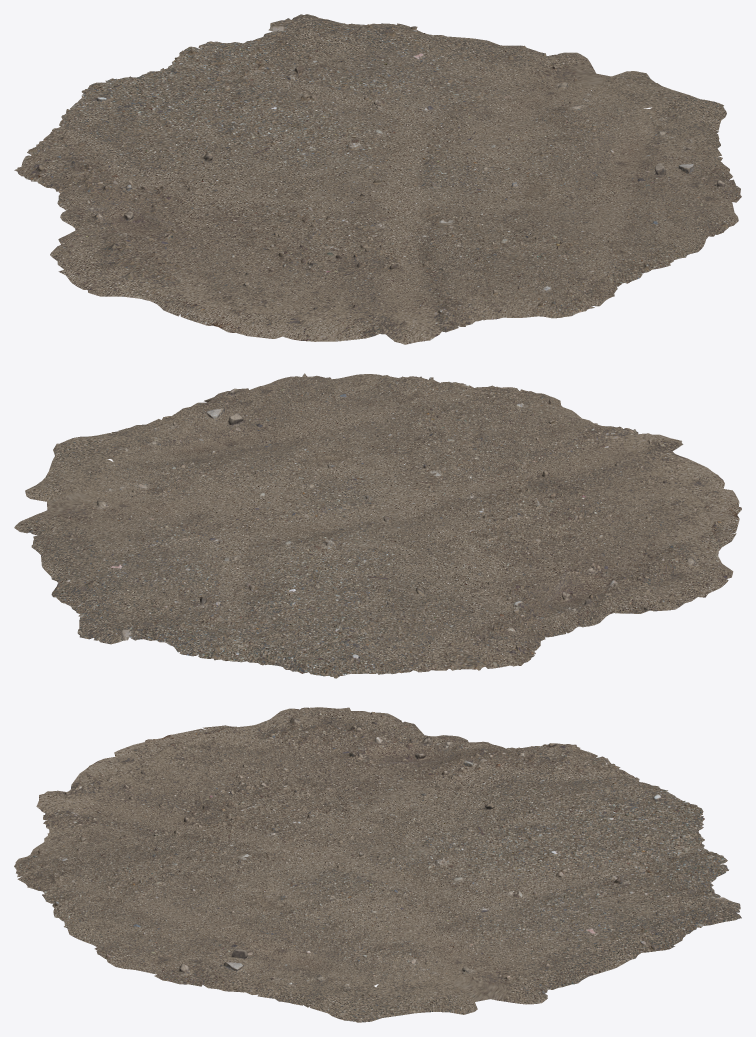
Rendered from MOD_GenericGround.fbx.
3 views of the same model, one above another, from view 1: azimuth 30°, elevation 25°; view 2: azimuth 150°, elevation 25°; view 3: azimuth 270°, elevation 25° (orthographic). The views are drawn at different scales.
Parts seen in each view (by area): view 1: MOD_GenGround_100k; view 2: MOD_GenGround_100k; view 3: MOD_GenGround_100k.
Part boxes in pixels (x1,y1,x2,y2): MOD_GenGround_100k: (14, 14, 741, 344); MOD_GenGround_100k: (14, 373, 741, 678); MOD_GenGround_100k: (14, 707, 741, 1022).
Size of the model in its own units: 572 by 16.57 by 558.
Materials: 1 (1 with a texture image).
